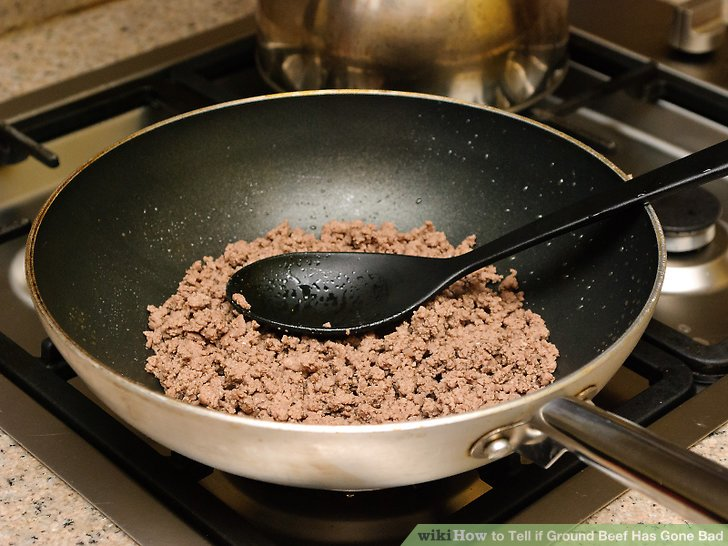ground_beef: (189, 317, 511, 415)
